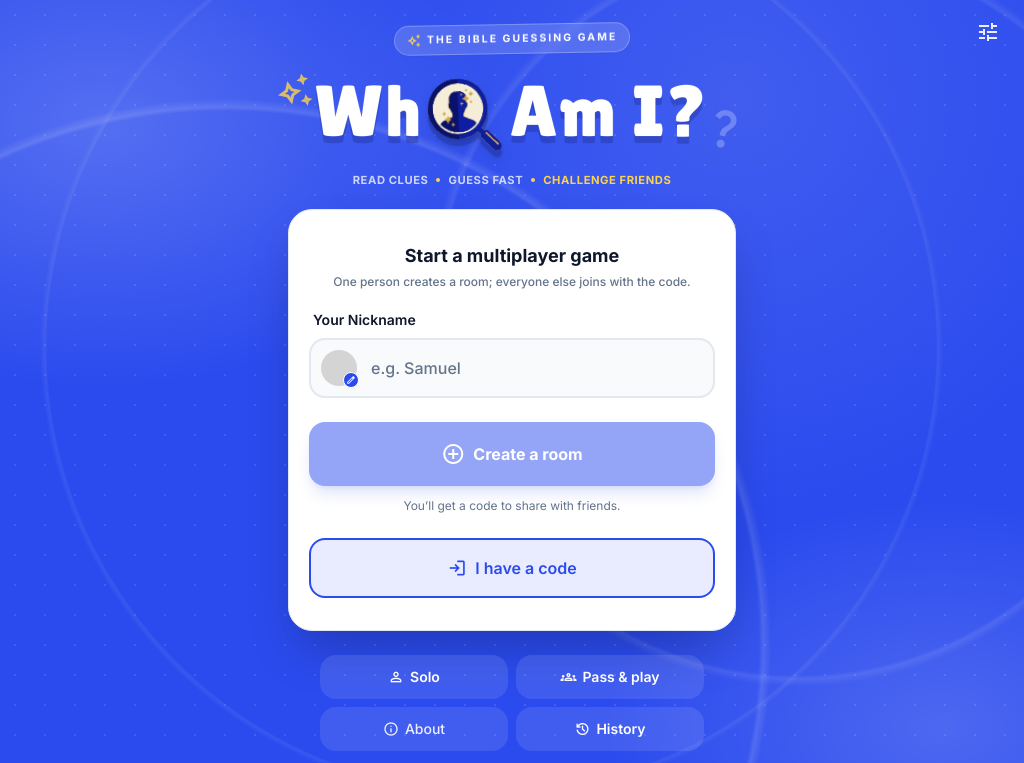
it: Home › leads with create a room and reveals join when asked
Expected: the text "One person creates a room; everyone else joins" is shown, [333, 274, 691, 289]
Expected: the button "Create a room" is shown, [309, 422, 715, 486]
What coordinates should you click on to do the following:
click the button "I have a code"
I would click on:
 (512, 568)
Its box is [309, 538, 715, 598].
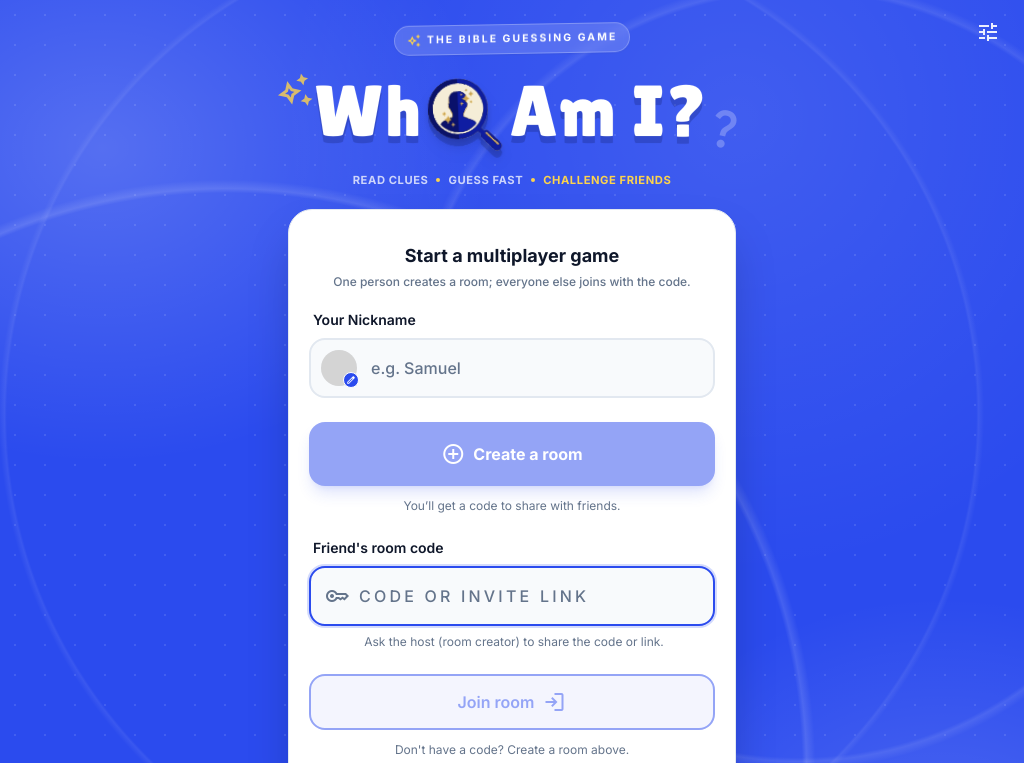
Expected: the field labelled "Friend's room code" is shown, [309, 566, 715, 626]
Expected: the text "Ask the host (room creator) to share the code or link." is shown, [364, 634, 664, 649]
